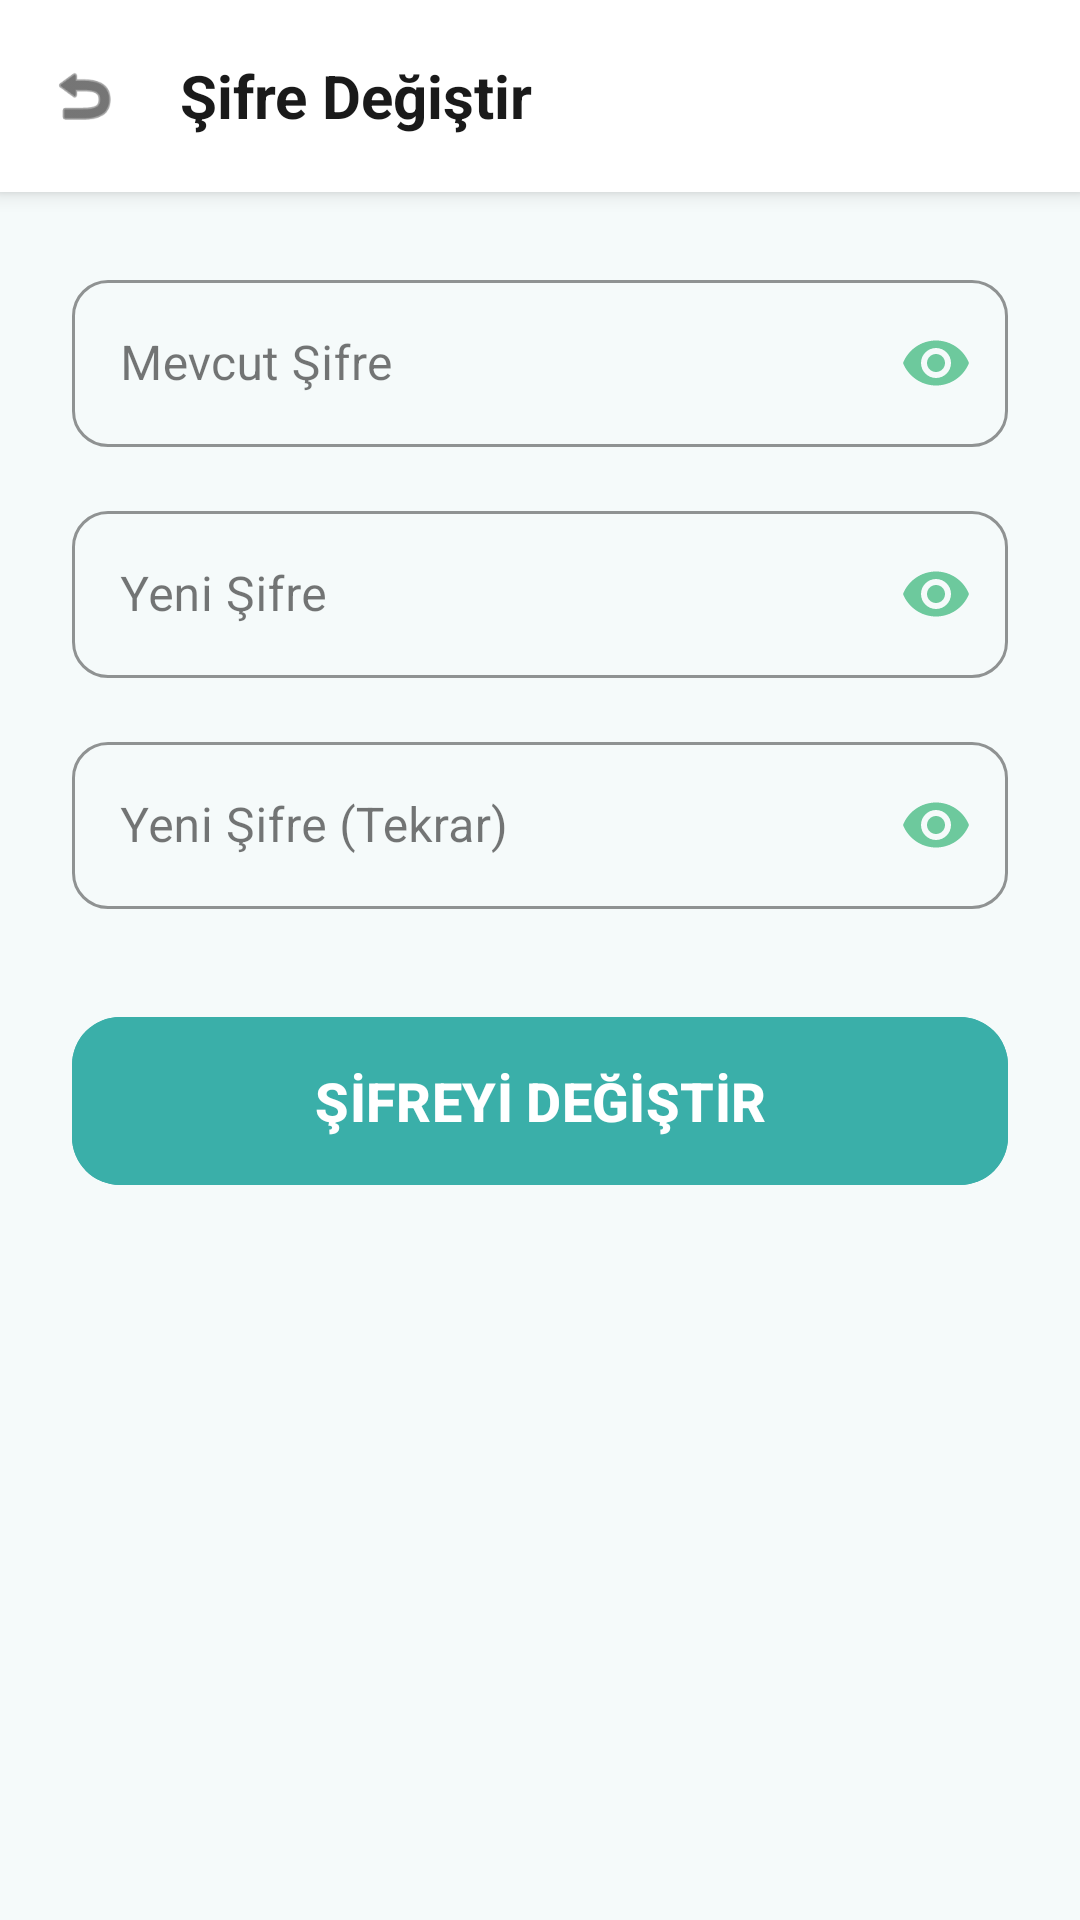

Point at icon controls on the screen. Image size 1080px×1920px, points as [x,y].
Geri: [85,96]
